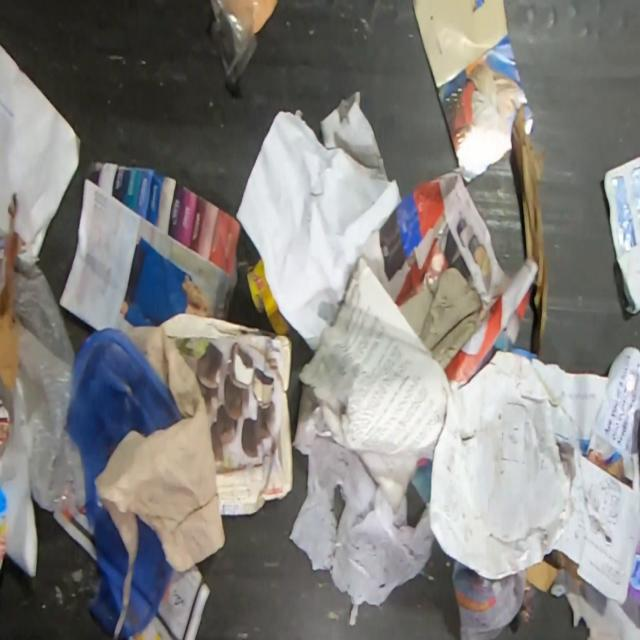cardboard: (60, 161, 241, 329), (159, 312, 293, 515)
rigid_plastic: (65, 326, 186, 637), (208, 0, 257, 94)
soft_plastic: (13, 256, 87, 510)
